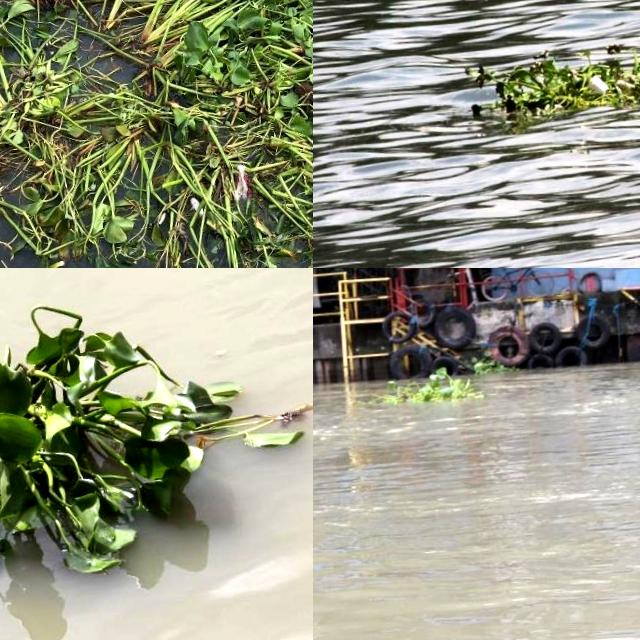water-hyacinth: (1, 302, 314, 598), (1, 1, 314, 269), (464, 33, 640, 130), (369, 369, 484, 408), (1, 1, 30, 28)
